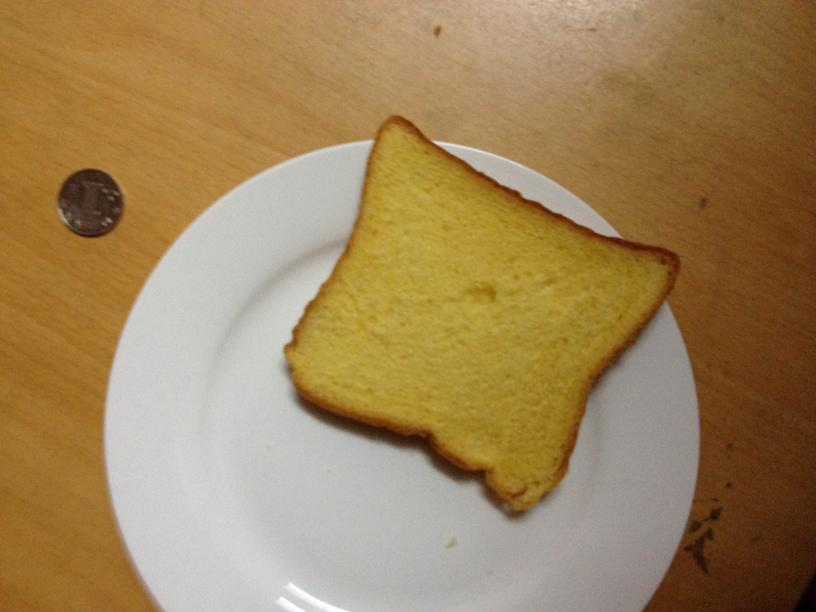bread: (277, 118, 680, 515)
coin: (50, 164, 125, 235)
